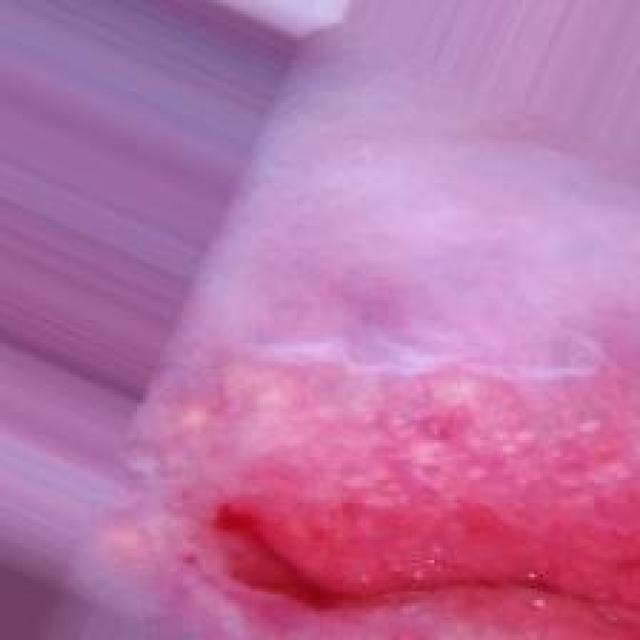type-1: (232, 165, 636, 640)
